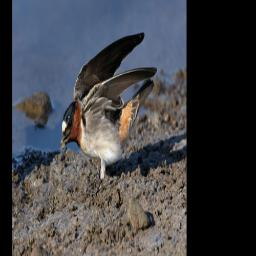Swallow: (60, 31, 157, 197)
